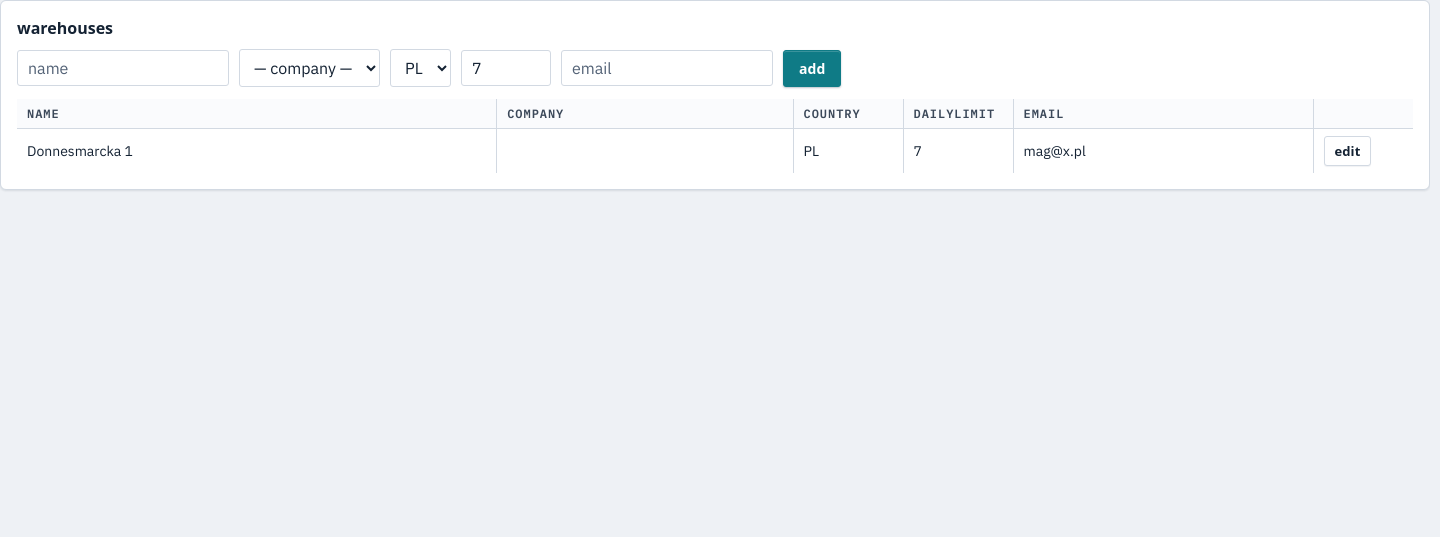
WarehousesTab › „Anuluj" w edycji wraca do widoku bez zapisu
What coordinates should you click on to do the following:
click the button "edit"
I would click on:
 (1347, 151)
Its box is [1324, 136, 1371, 166].
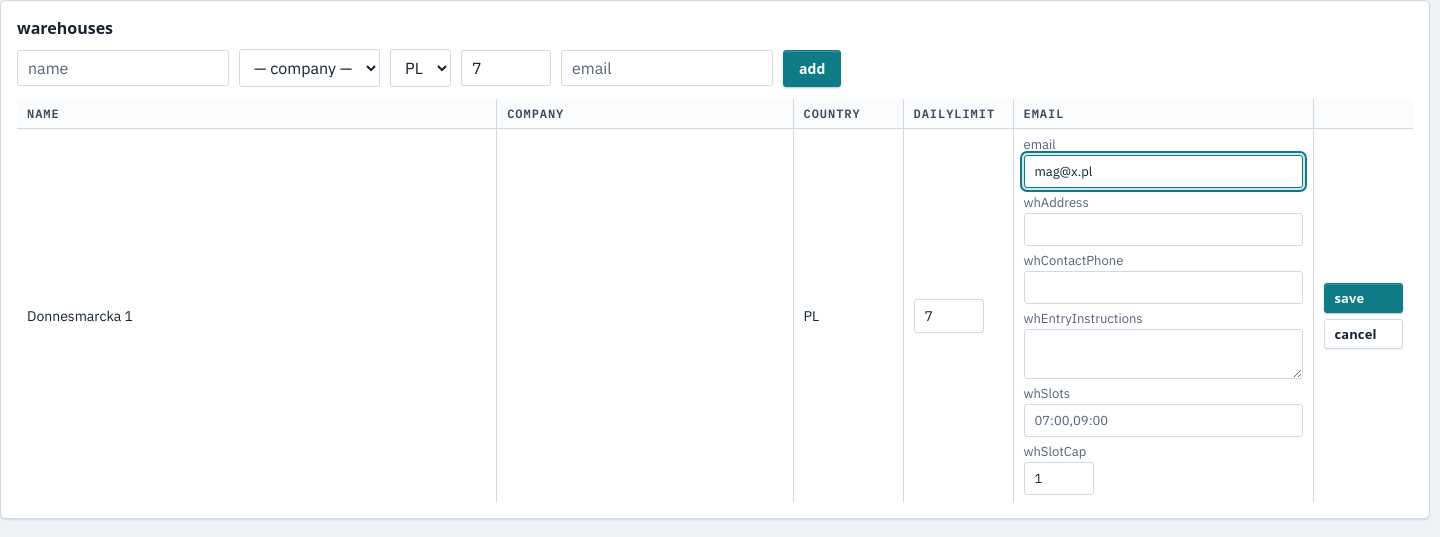
What coordinates should you click on to do the following:
click the button "cancel"
I would click on:
 (1363, 334)
Its box is [1324, 318, 1403, 348].
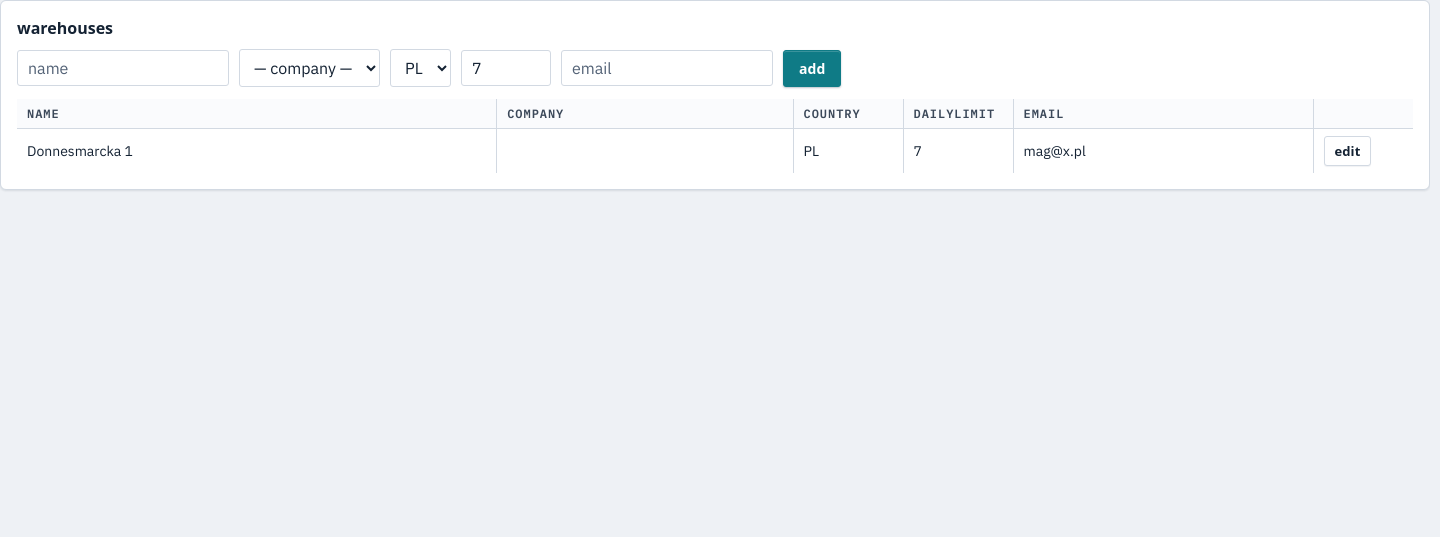
Expected: the button "edit" is shown, [1324, 136, 1371, 166]
